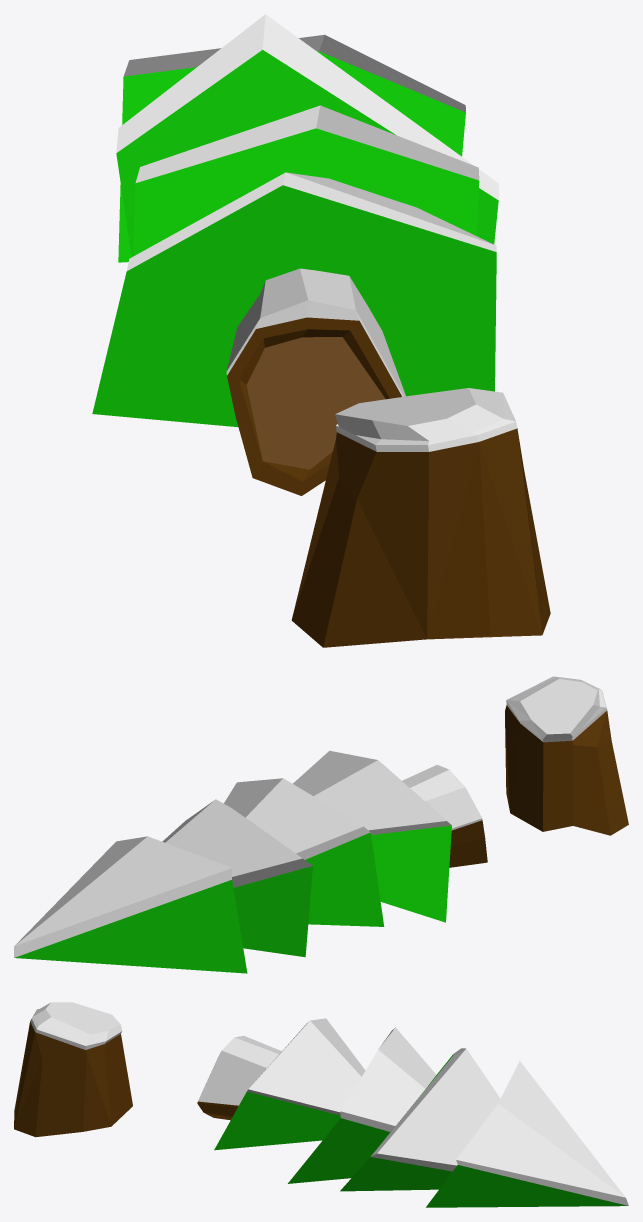
The model's file is Pine tree#8_Snow.fbx.
The picture shows the model from 3 angles, top to bottom: view 1: azimuth 30°, elevation 25°; view 2: azimuth 150°, elevation 25°; view 3: azimuth 270°, elevation 25°; orthographic projection. The views are drawn at different scales.
Parts seen in each view (by area): view 1: Pine tree#8_Snow; view 2: Pine tree#8_Snow; view 3: Pine tree#8_Snow.
Part boxes in pixels (box(x1,y1,x2,y2)): Pine tree#8_Snow: box(92, 14, 550, 647); Pine tree#8_Snow: box(14, 676, 628, 973); Pine tree#8_Snow: box(14, 1002, 628, 1207).
Bounding box in the file's own units: 748 × 346 × 1453.
